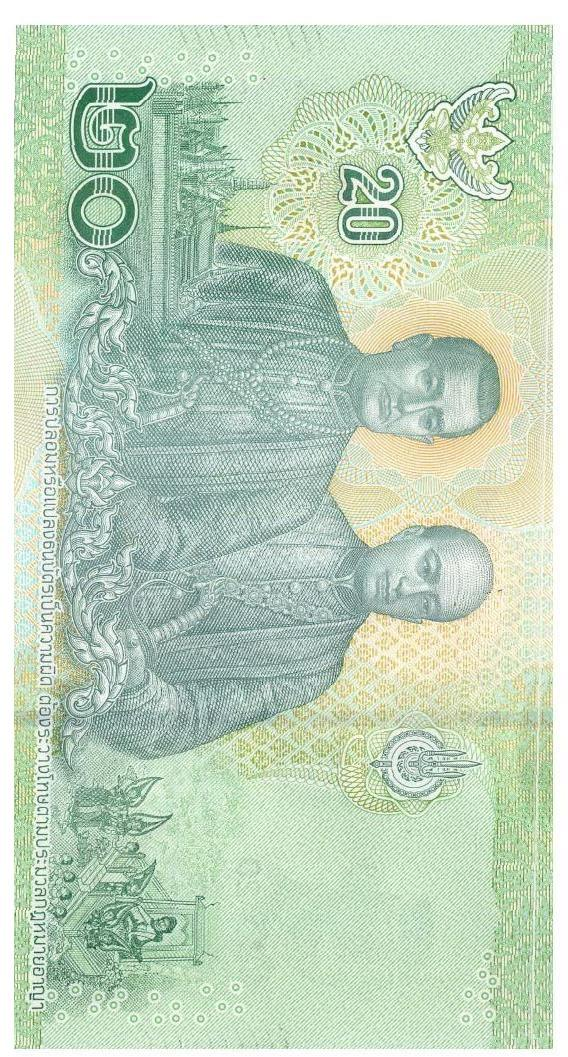20BahtTai: (14, 32, 555, 1050)
